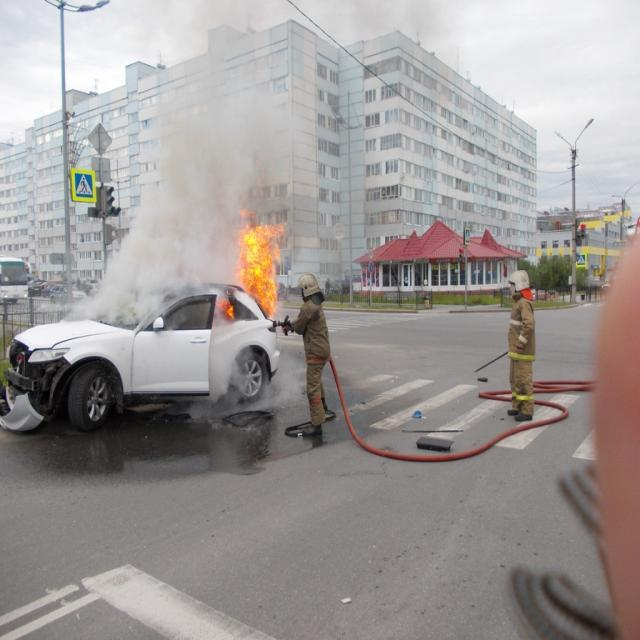Fire: (240, 209, 284, 316), (215, 298, 234, 318)
Smoke: (71, 19, 300, 328)
